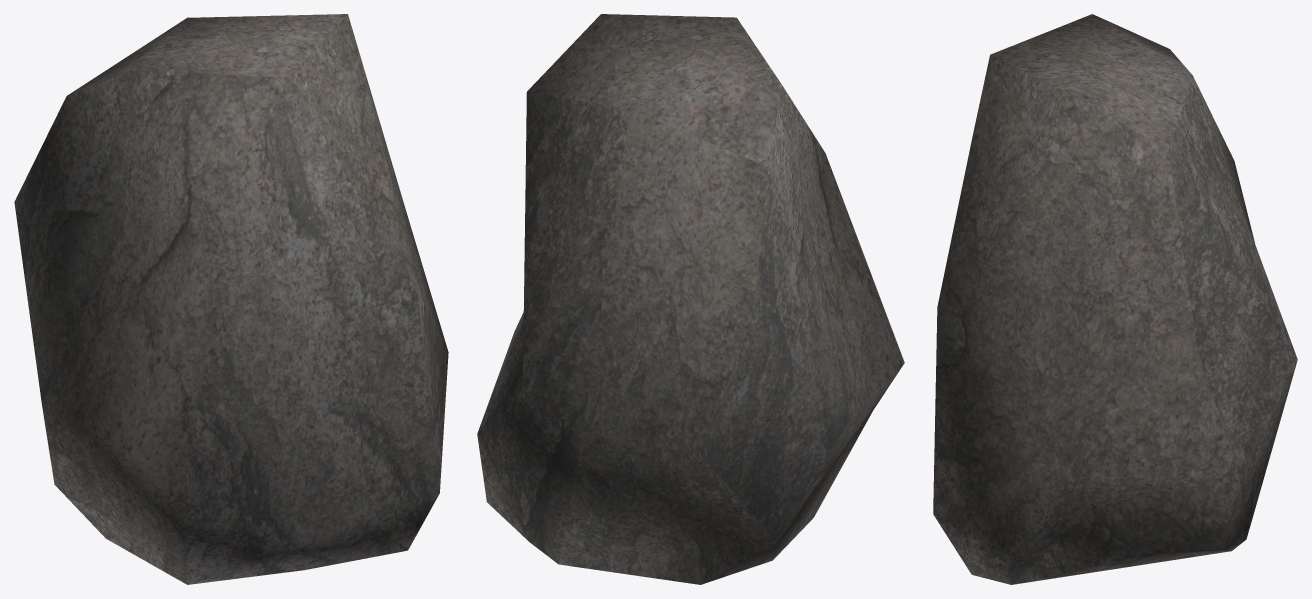
The model's file is smallerrock.fbx.
3 renders of one model, left to right at view 1: azimuth 30°, elevation 25°; view 2: azimuth 150°, elevation 25°; view 3: azimuth 270°, elevation 25°, orthographic. The views are drawn at different scales.
Parts seen in each view (by area): view 1: smallerrock; view 2: smallerrock; view 3: smallerrock.
Boxes of the visible parts, left/top/right/bottom form: smallerrock: left=14, top=14, right=448, bottom=584; smallerrock: left=477, top=14, right=904, bottom=584; smallerrock: left=933, top=14, right=1297, bottom=584.
Size of the model in its own units: 433 by 548 by 379.
